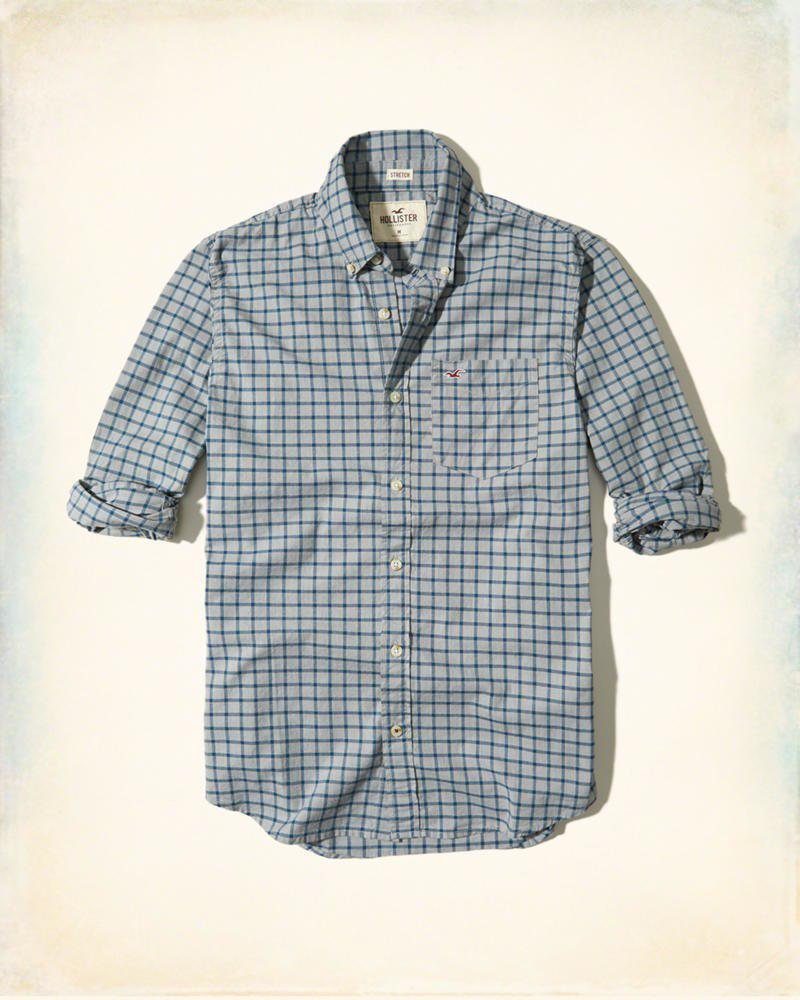teeshirt: (65, 131, 720, 857)
